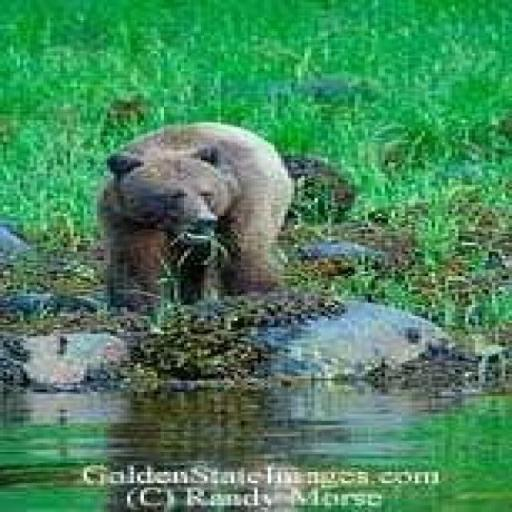Bear: (94, 120, 355, 312)
